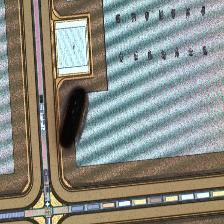PO CONTAMINATION: (54, 82, 95, 158)
